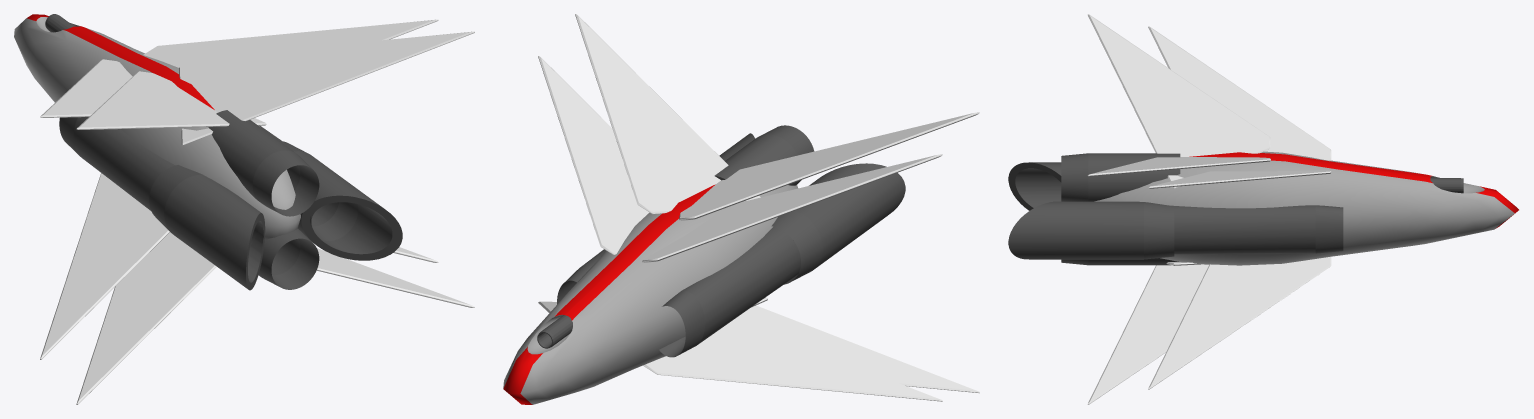
Rendered from Enemy2.fbx.
3 views of the same model, side by side, from view 1: azimuth 30°, elevation 25°; view 2: azimuth 150°, elevation 25°; view 3: azimuth 270°, elevation 25° (orthographic). The views are drawn at different scales.
Visible parts, largest first — view 1: pasted__pCube56; view 2: pasted__pCube56; view 3: pasted__pCube56.
Boxes of the visible parts, <box> form: pasted__pCube56: <box>14,14,474,404</box>; pasted__pCube56: <box>503,14,979,404</box>; pasted__pCube56: <box>1008,14,1518,404</box>.
Bounding box in the file's own units: 11.36 × 7.53 × 15.19.
